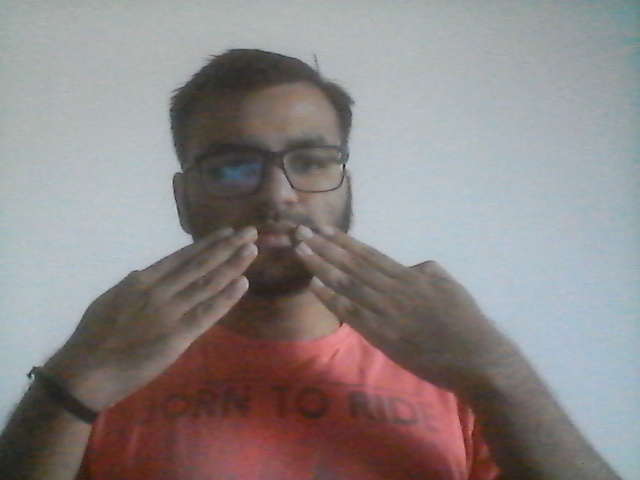Yes: (41, 209, 530, 402)
